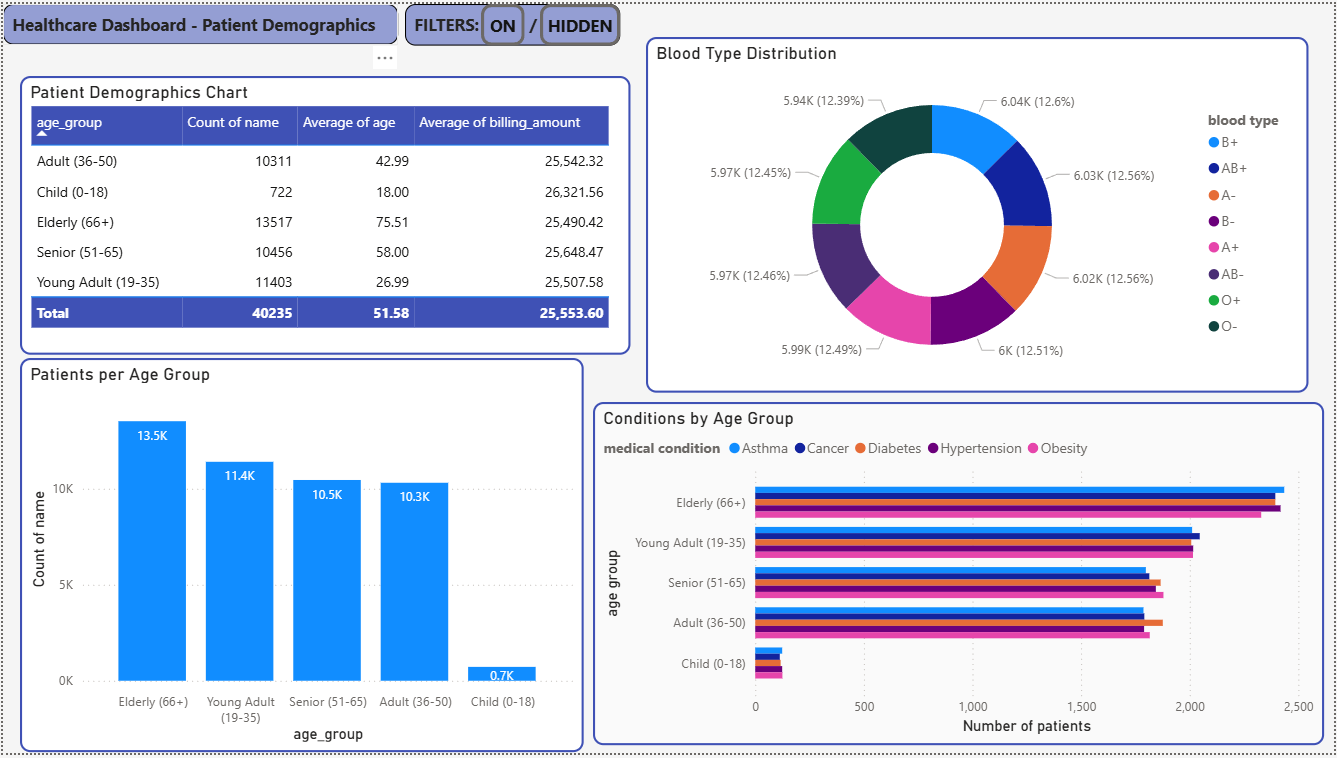

This screenshot's page, from the dashboard's own definition file:
{"tool":"powerbi","page":{"name":"Patient Demographics","canvas":[1280,720],"ordinal":1},"visuals":[{"type":"textbox","box":[386.8,0,207,40],"z":0,"group":"g1"},{"type":"clusteredColumnChart","title":"Patients per Age Group","fields":{"Category":["healthcare_clean.age_group"],"Y":["Count(healthcare_clean.name)"]},"box":[16.5,340.4,541.8,379.3],"z":0},{"type":"actionButton","box":[459.8,0,42,40],"z":1000,"group":"g1"},{"type":"donutChart","title":"Blood Type Distribution","fields":{"Category":["healthcare_clean.blood_type"],"Y":["Count(healthcare_clean.name)"]},"box":[618.6,32.1,637.1,342.4],"z":1000},{"type":"actionButton","box":[516.8,0,77,40],"z":2000,"group":"g1"},{"type":"clusteredBarChart","title":"Conditions by Age Group","fields":{"Category":["healthcare_clean.age_group"],"Y":["Count(healthcare_clean.name)"],"Series":["healthcare_clean.medical_condition"]},"box":[567.1,382.2,703.2,329.7],"z":2000},{"type":"tableEx","title":"Patient Demographics Chart","fields":{"Values":["healthcare_clean.age_group","healthcare_clean.name","Avg(healthcare_clean.age)","Avg(healthcare_clean.billing_amount)"]},"box":[16.5,69.1,586.5,268.4],"z":3000},{"type":"textbox","box":[0,0,379.6,39.1],"z":4000},{"type":"group","id":"g1","title":"Group 2","box":[386.8,0,207.2,39.9],"z":6000}]}

Visuals, with their boxes in screenshot pixels (x1, y1, x2, y2), scaled from the page's 1280x720 canvas onto the 1337x758 screenshot:
textbox: <region>404, 0, 620, 42</region>
"Patients per Age Group" clusteredColumnChart: <region>17, 358, 583, 757</region>
actionButton: <region>480, 0, 524, 42</region>
"Blood Type Distribution" donutChart: <region>646, 34, 1312, 394</region>
actionButton: <region>540, 0, 620, 42</region>
"Conditions by Age Group" clusteredBarChart: <region>592, 402, 1327, 749</region>
"Patient Demographics Chart" tableEx: <region>17, 73, 630, 355</region>
textbox: <region>0, 0, 397, 41</region>
"Group 2" group: <region>404, 0, 620, 42</region>
